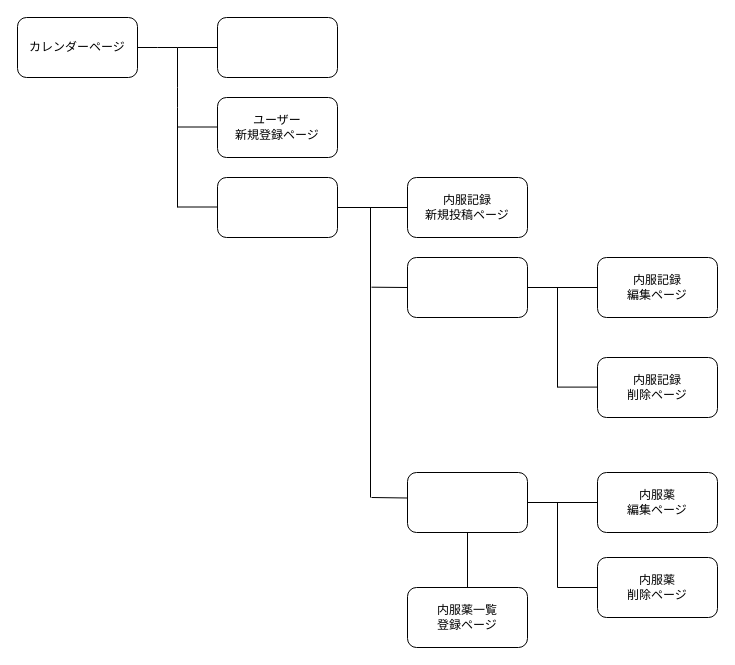
This 735x665 diagram has some shape labels left out. The shapes that lost their labels are listed below. From the top down, each one's centre as x and y in pixels, then its label:
At (x=277, y=47): "ユーザー ログインページ".
At (x=277, y=207): "ユーザー マイページ （カレンダー）".
At (x=467, y=287): "内服記録 詳細ページ".
At (x=467, y=502): "内服薬一覧ページ".
